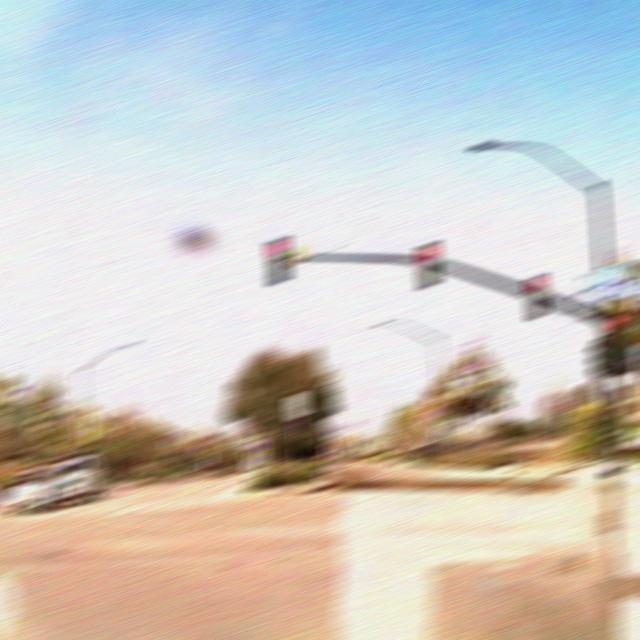speedLimit50: (285, 393, 307, 416)
